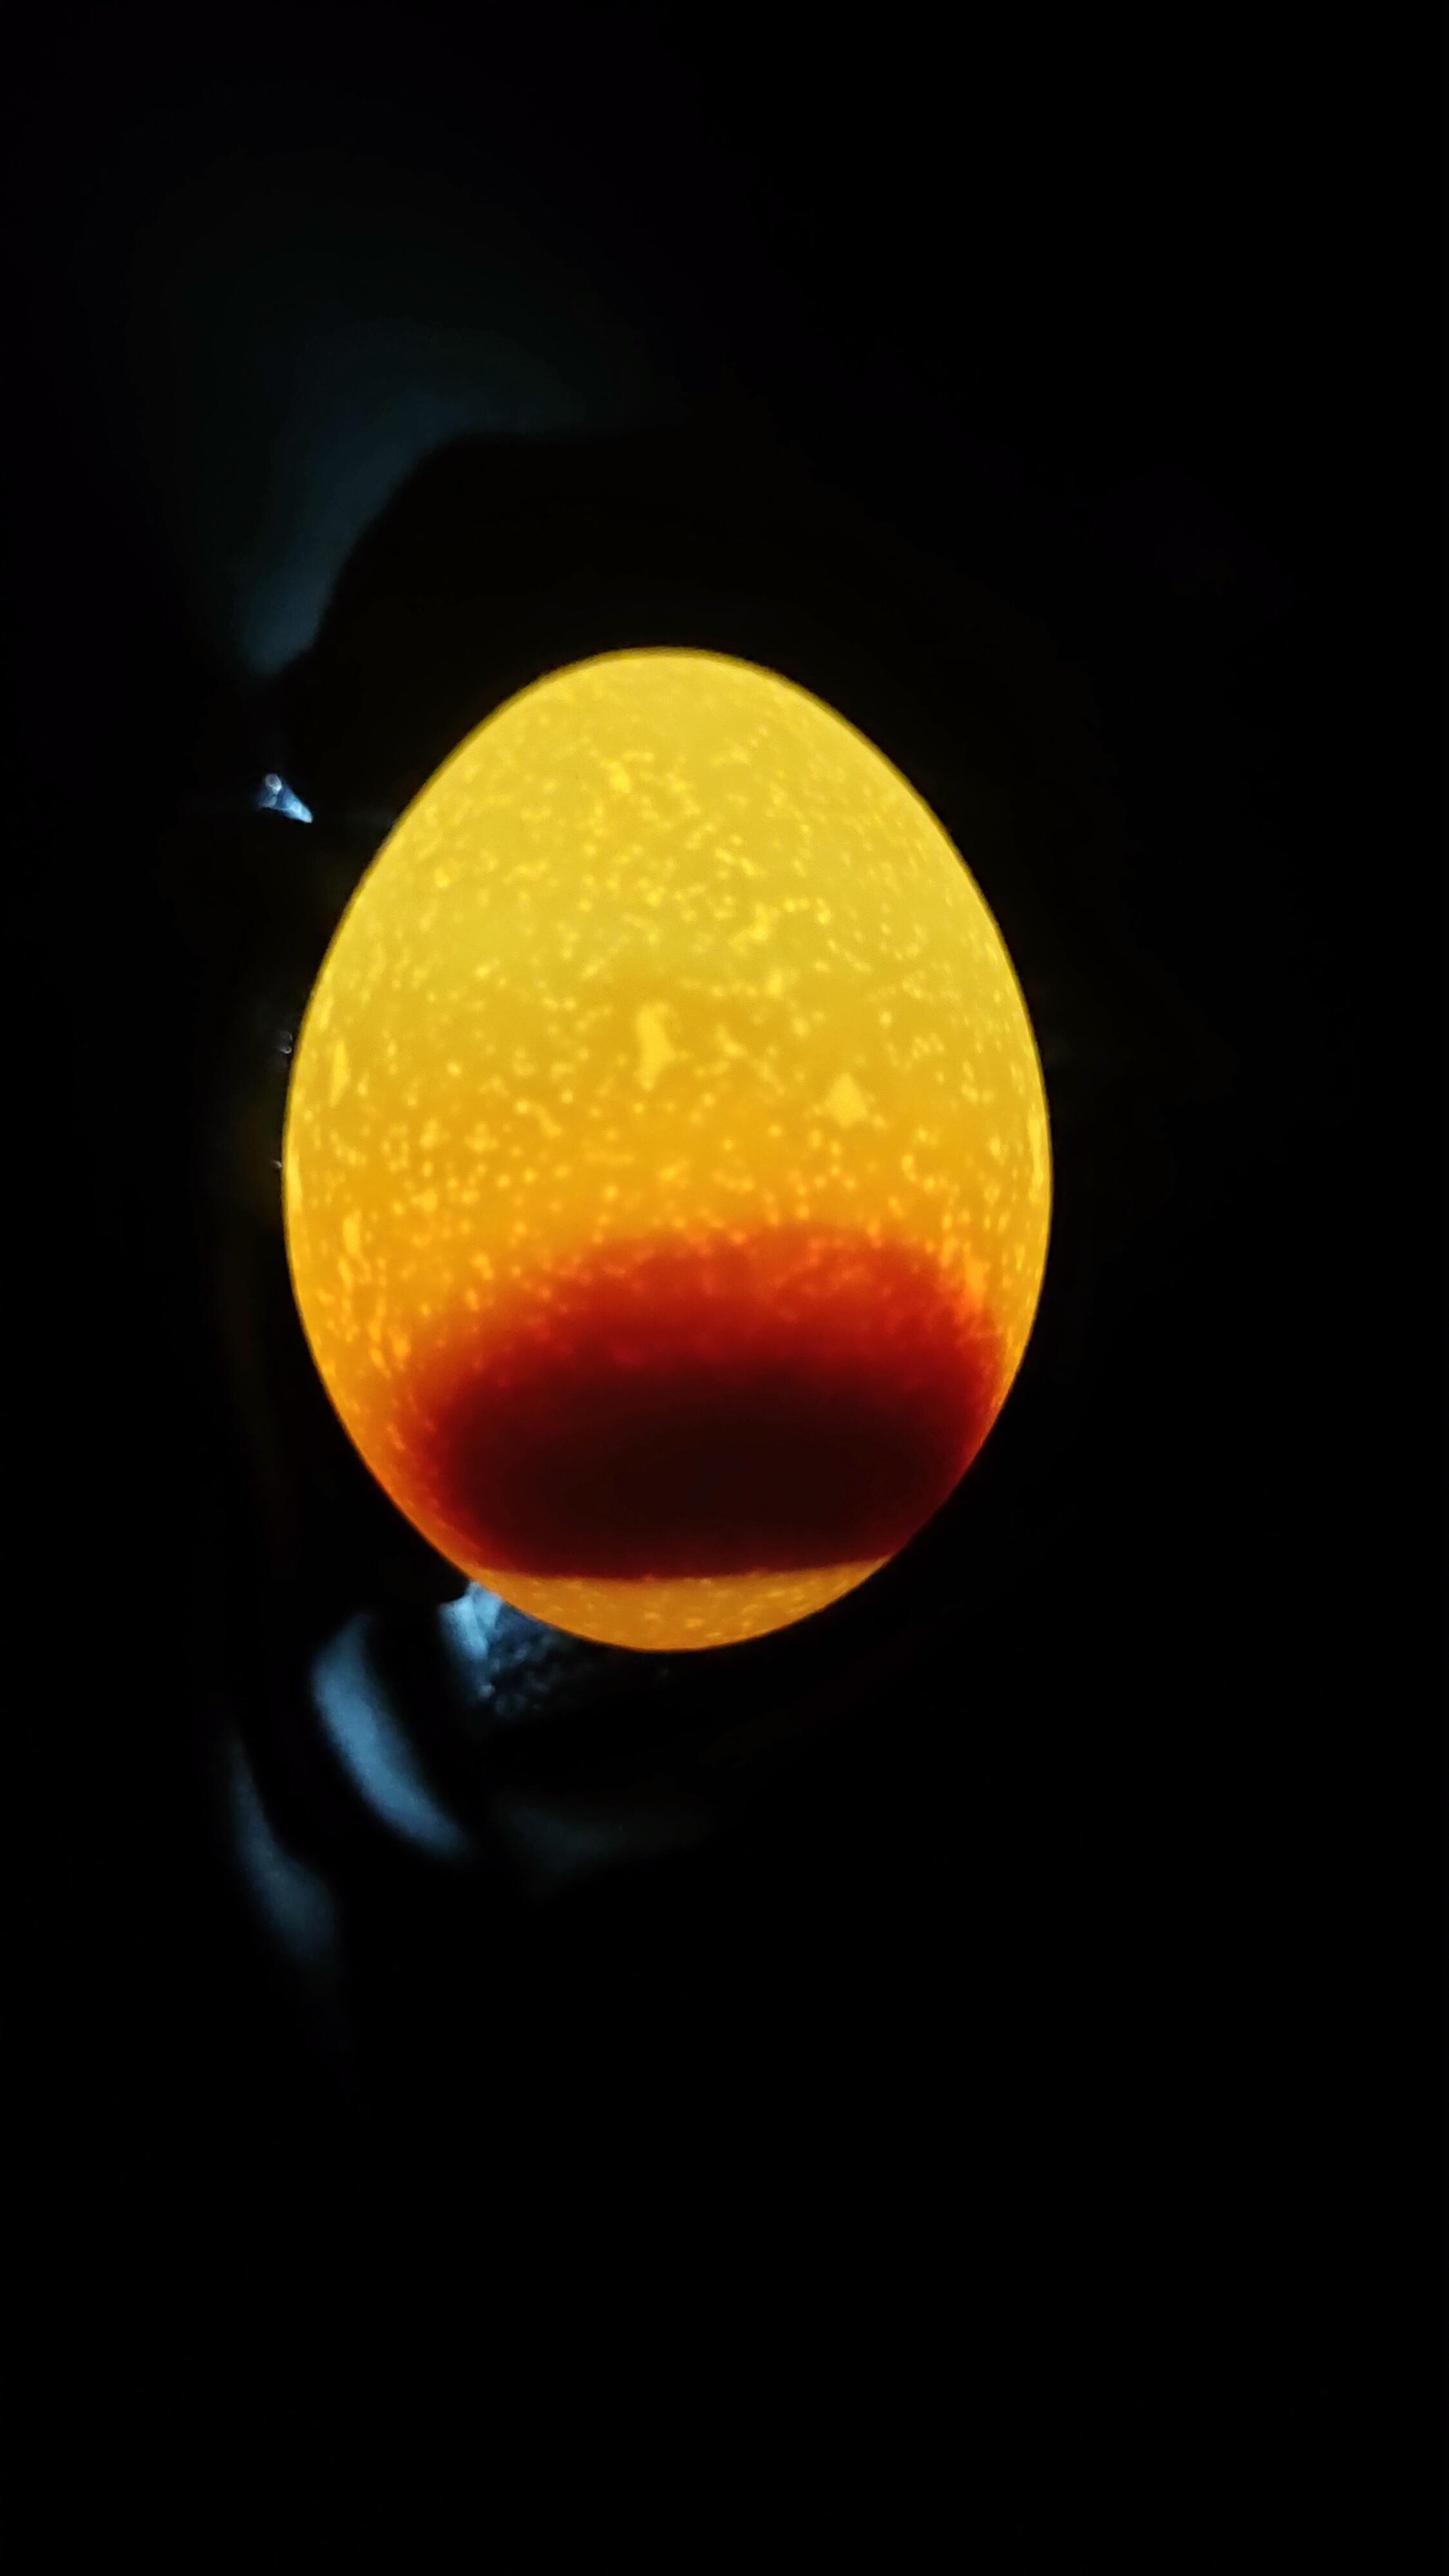AA - Premium: (212, 637, 1198, 1727)
